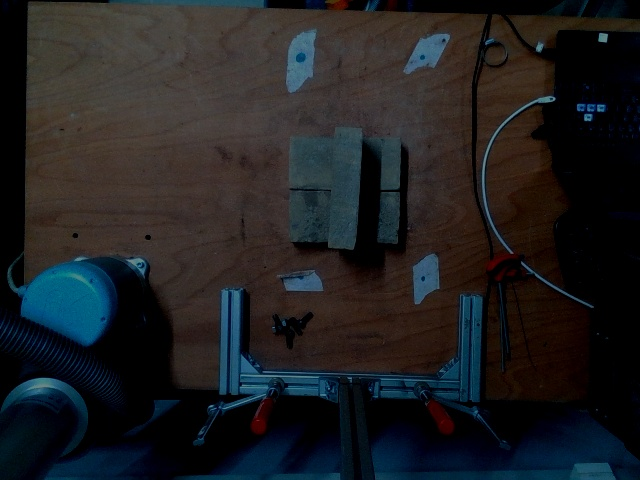brick-side: (330, 129, 363, 247)
